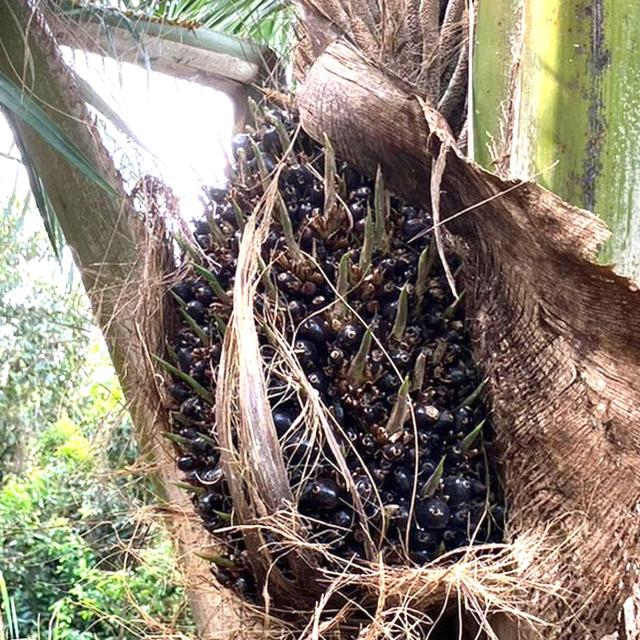unripe: (192, 133, 496, 556)
